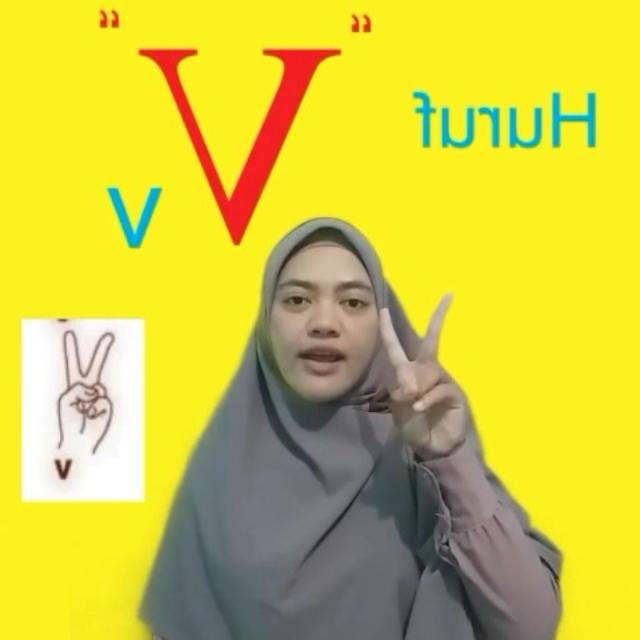V: (378, 287, 476, 458)
